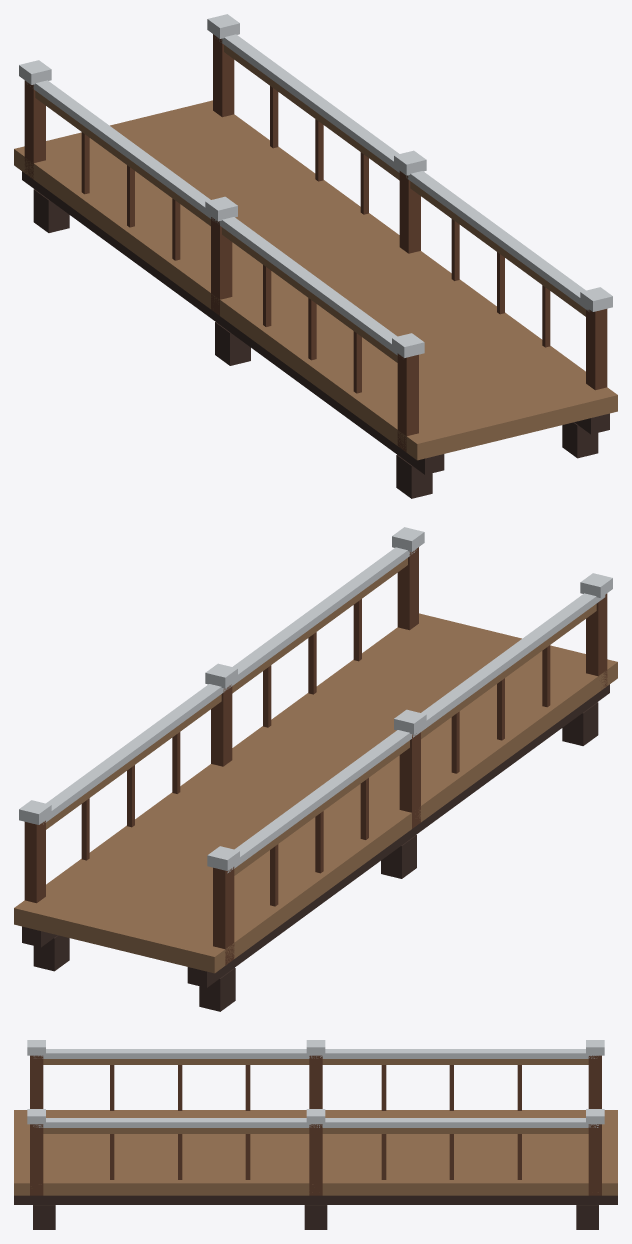
File: Frosty_TimberBridge_Showcase.glb
3 renders of one model, top to bottom at view 1: azimuth 30°, elevation 25°; view 2: azimuth 150°, elevation 25°; view 3: azimuth 270°, elevation 25°, orthographic. The views are drawn at different scales.
Parts seen in each view (by area): view 1: Frosty_TimberBridge_Showcase; view 2: Frosty_TimberBridge_Showcase; view 3: Frosty_TimberBridge_Showcase.
Part boxes in pixels (x1,y1,x2,y2): Frosty_TimberBridge_Showcase: (14, 14, 617, 498); Frosty_TimberBridge_Showcase: (14, 527, 617, 1011); Frosty_TimberBridge_Showcase: (14, 1040, 617, 1229).
Bounding box in the file's own units: 2.39 × 1.72 × 8.
